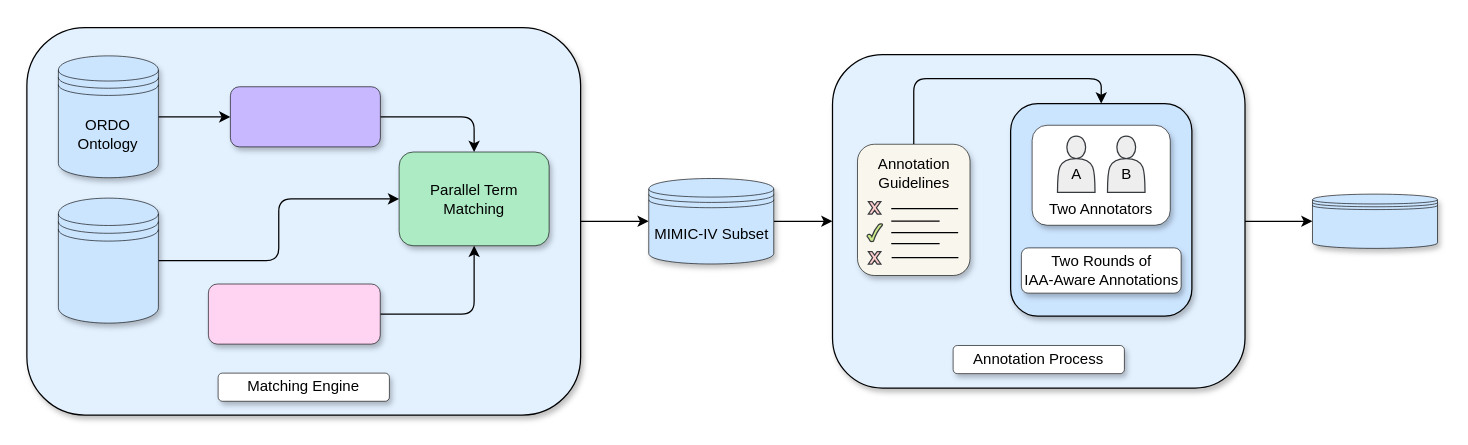
Image size: 1468x445. Some labels were removed from this diagram. Each missing label, with the centre of its shape:
Final Subset: point (1376, 222)
MIMIC-IV: point (109, 262)
SPARQL Processing: point (306, 118)
Weak Supervision Rules à la Dong et al., 2023: point (295, 315)
